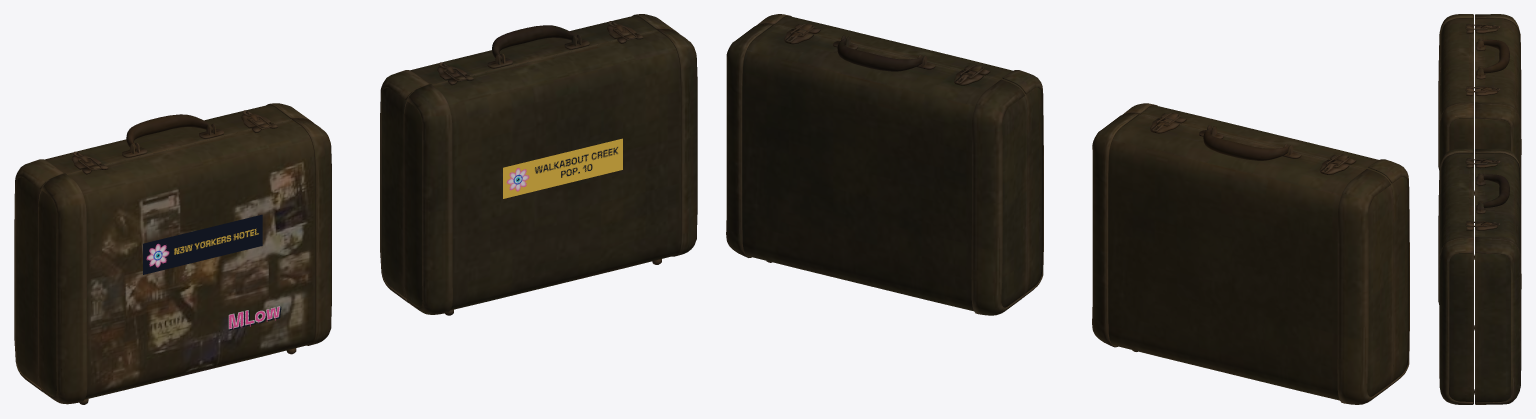
File: nyb_dundee_luggage.glb
3 renders of one model, left to right at view 1: azimuth 30°, elevation 25°; view 2: azimuth 150°, elevation 25°; view 3: azimuth 270°, elevation 25°, orthographic. The views are drawn at different scales.
Parts seen in each view (by area): view 1: vintage_suitcase_01_bottom, stk_lbl_e2e6c76842.png, stk_lbl_f16d15811c.png, stk_tag_mlow.png; view 2: vintage_suitcase_01_bottom; view 3: vintage_suitcase_01_bottom.
Boxes of the visible parts, x1,y1,x2,y2 form: vintage_suitcase_01_bottom: (14, 14, 697, 404); stk_lbl_e2e6c76842.png: (503, 138, 622, 198); stk_lbl_f16d15811c.png: (143, 214, 262, 274); stk_tag_mlow.png: (228, 306, 281, 330); vintage_suitcase_01_bottom: (726, 14, 1409, 404); vintage_suitcase_01_bottom: (1438, 14, 1521, 404).
Size of the model in its own units: 1.61 by 0.5679 by 0.2392.
Materials: 5 (5 with a texture image).
